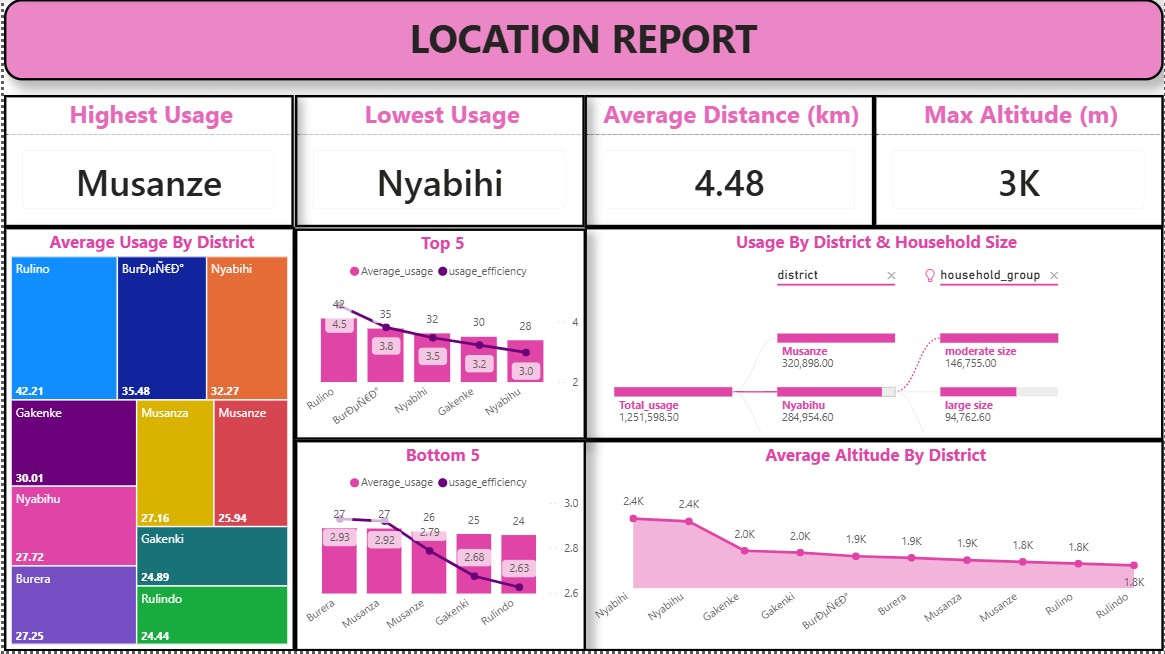

What the dashboard file says about the page in this screenshot:
{"tool":"powerbi","page":{"name":"Location","canvas":[1280,720],"ordinal":2},"visuals":[{"type":"textbox","box":[0,0,1280.5,90],"z":0},{"type":"cardVisual","title":"Average Distance (km)","fields":{"Data":["Avg(location.distance_to_market_km)"]},"box":[641.1,106,319.7,145.8],"z":1000},{"type":"cardVisual","title":"Lowest Usage","fields":{"Data":["location.district_low_usage"]},"box":[321.4,106,319.7,145.8],"z":2000},{"type":"cardVisual","title":"Highest Usage","fields":{"Data":["location.district_top_usage"]},"box":[0,106,319.7,145.8],"z":3000},{"type":"treemap","title":"Average Usage By District","fields":{"Group":["location.district"],"Values":["stove_usage_fact.Average_usage"]},"box":[0,251.8,321.4,468.8],"z":4000},{"type":"cardVisual","title":"Max Altitude (m)","fields":{"Data":["Max(location.elevation_m)"]},"box":[960.8,106,319.7,145.8],"z":5000},{"type":"decompositionTreeVisual","title":"Usage By District & Household Size","fields":{"Analyze":["stove_usage_fact.Total_usage"],"ExplainBy":["location.district","household.household_group"]},"box":[641.1,251.8,639.4,235.2],"z":6000},{"type":"areaChart","title":"Average Altitude By District","fields":{"Category":["location.district"],"Y":["Avg(location.elevation_m)"]},"box":[639.4,487,641.1,233.6],"z":7000},{"type":"lineClusteredColumnComboChart","title":"Top 5","fields":{"Y":["stove_usage_fact.Average_usage"],"Category":["location.district"],"Y2":["location.usage_efficiency"]},"box":[321.4,253.4,321.4,233.6],"z":8000},{"type":"lineClusteredColumnComboChart","title":"Bottom 5","fields":{"Y":["stove_usage_fact.Average_usage"],"Category":["location.district"],"Y2":["location.usage_efficiency"]},"box":[321.4,487,321.4,233.6],"z":9000}]}

Visuals, with their boxes in screenshot pixels (x1, y1, x2, y2), scaled from the page's 1280x720 canvas onto the 1165x654 screenshot:
textbox: [x1=0, y1=0, x2=1164, y2=82]
"Average Distance (km)" cardVisual: [x1=584, y1=96, x2=874, y2=229]
"Lowest Usage" cardVisual: [x1=293, y1=96, x2=584, y2=229]
"Highest Usage" cardVisual: [x1=0, y1=96, x2=291, y2=229]
"Average Usage By District" treemap: [x1=0, y1=229, x2=293, y2=653]
"Max Altitude (m)" cardVisual: [x1=874, y1=96, x2=1164, y2=229]
"Usage By District & Household Size" decompositionTreeVisual: [x1=584, y1=229, x2=1164, y2=442]
"Average Altitude By District" areaChart: [x1=582, y1=442, x2=1164, y2=653]
"Top 5" lineClusteredColumnComboChart: [x1=293, y1=230, x2=585, y2=442]
"Bottom 5" lineClusteredColumnComboChart: [x1=293, y1=442, x2=585, y2=653]
